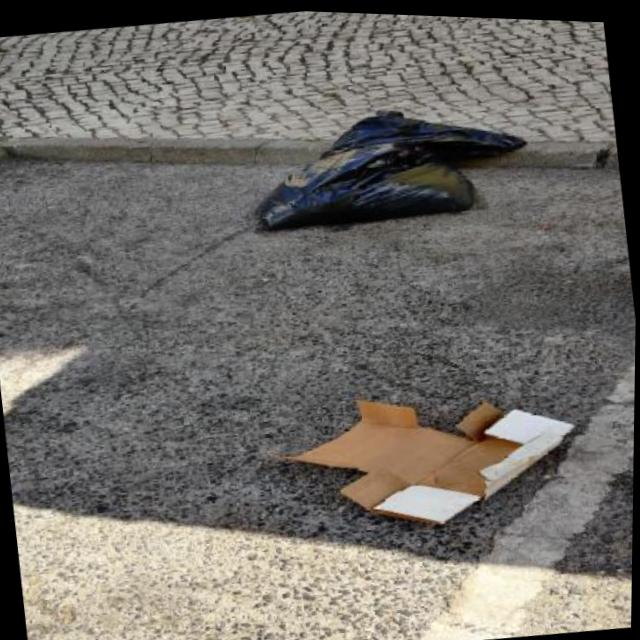cardboard: (261, 369, 587, 550)
plastic: (239, 88, 535, 244)
